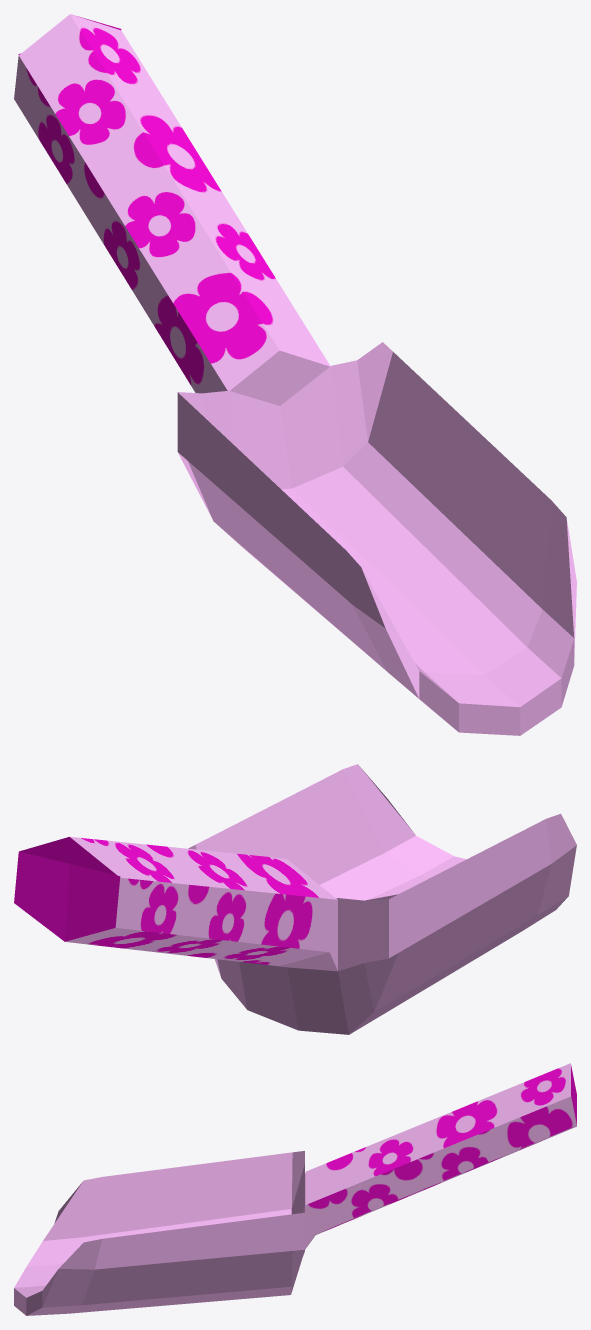
Rendered from pala.fbx.
3 views of the same model, one above another, from view 1: azimuth 30°, elevation 25°; view 2: azimuth 150°, elevation 25°; view 3: azimuth 270°, elevation 25° (orthographic). The views are drawn at different scales.
Visible parts, largest first — view 1: Cube.008; view 2: Cube.008; view 3: Cube.008.
Part boxes in pixels (x1,y1,x2,y2): Cube.008: (14,14,576,735); Cube.008: (14,764,576,1034); Cube.008: (14,1063,576,1315).
Size of the model in its own units: 7.21 by 27.01 by 12.85.
